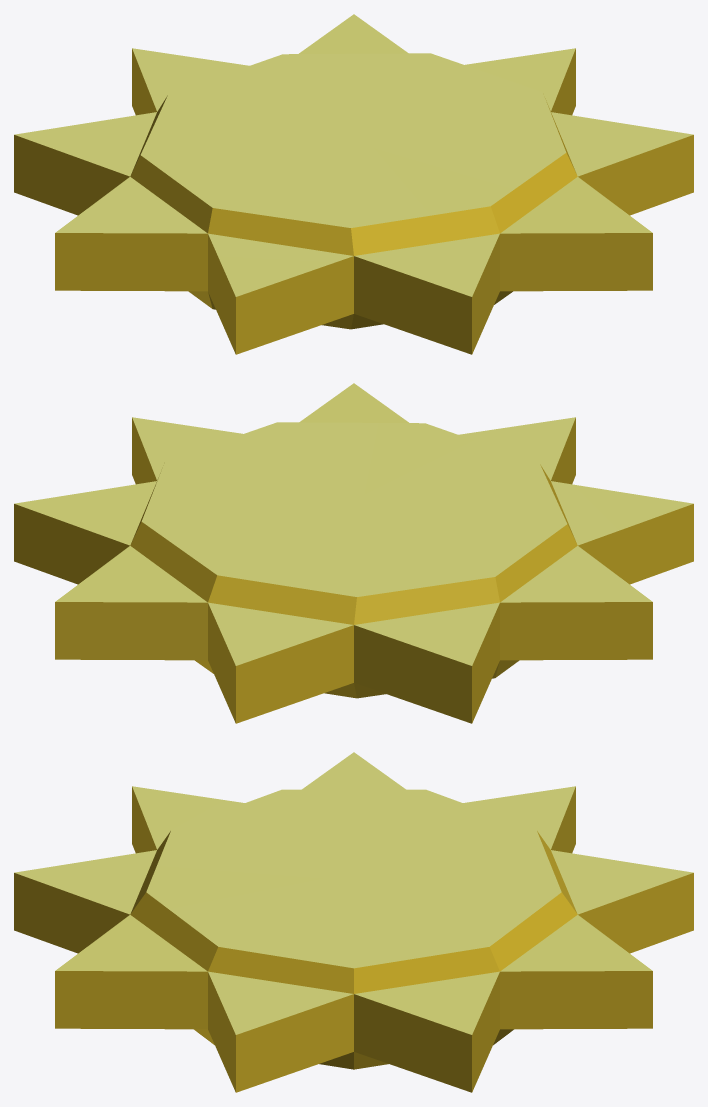
File: starPickup.fbx
3 views of the same model, one above another, from view 1: azimuth 30°, elevation 25°; view 2: azimuth 150°, elevation 25°; view 3: azimuth 270°, elevation 25° (orthographic).
Visible parts, largest first — view 1: starPickup; view 2: starPickup; view 3: starPickup.
Part boxes in pixels (left/top/right/bottom): starPickup: left=14, top=14, right=693, bottom=354; starPickup: left=14, top=383, right=693, bottom=723; starPickup: left=14, top=752, right=693, bottom=1092.
Size of the model in its own units: 59.33 by 9.9 by 60.24.
